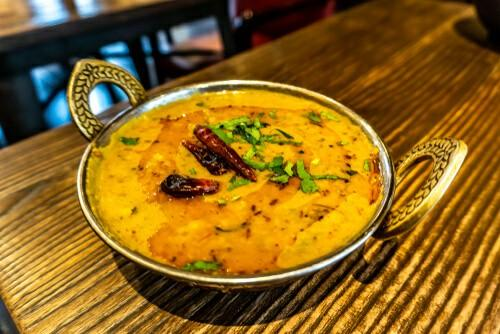Dal: (97, 89, 379, 276)
